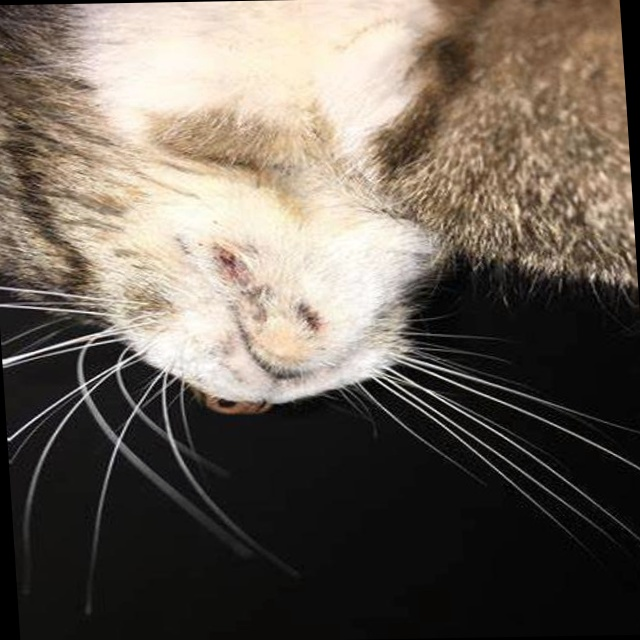acne: (208, 234, 324, 333)
